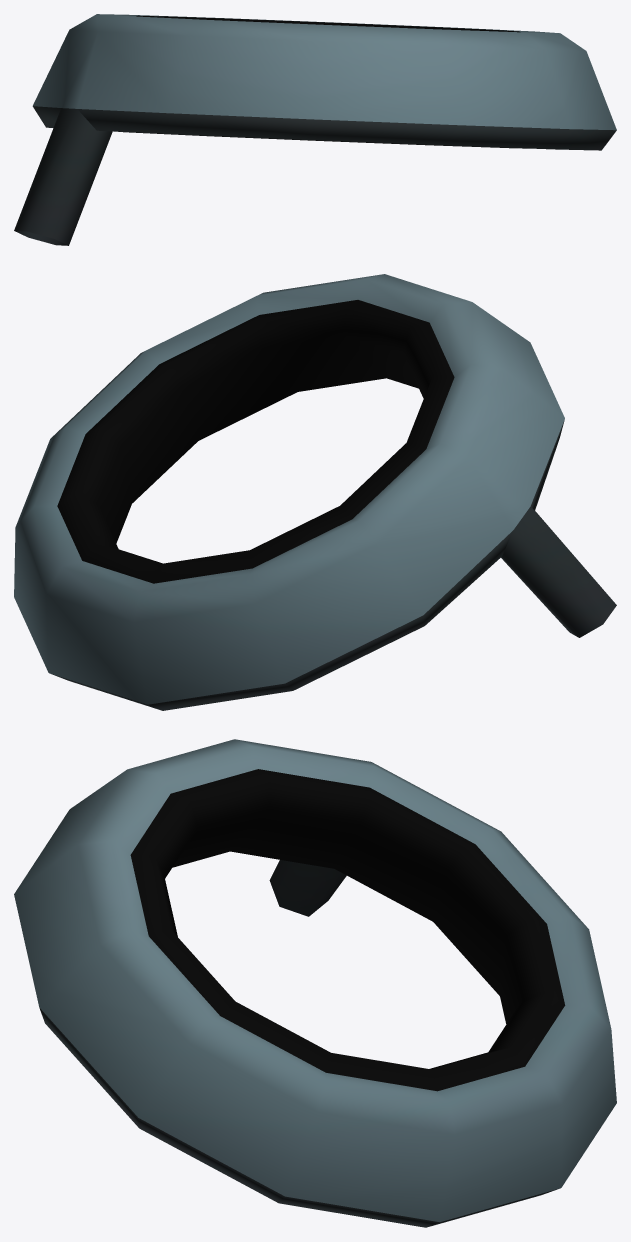
Rendered from Drone_002_wing_002.fbx.
3 renders of one model, top to bottom at view 1: azimuth 30°, elevation 25°; view 2: azimuth 150°, elevation 25°; view 3: azimuth 270°, elevation 25°, orthographic. The views are drawn at different scales.
Visible parts, largest first — view 1: Drone_002_wing_002; view 2: Drone_002_wing_002; view 3: Drone_002_wing_002.
Boxes of the visible parts, x1,y1,x2,y2 form: Drone_002_wing_002: [14, 14, 616, 245]; Drone_002_wing_002: [14, 274, 616, 710]; Drone_002_wing_002: [14, 739, 616, 1227].
Size of the model in its own units: 32.25 by 27.54 by 16.02.
